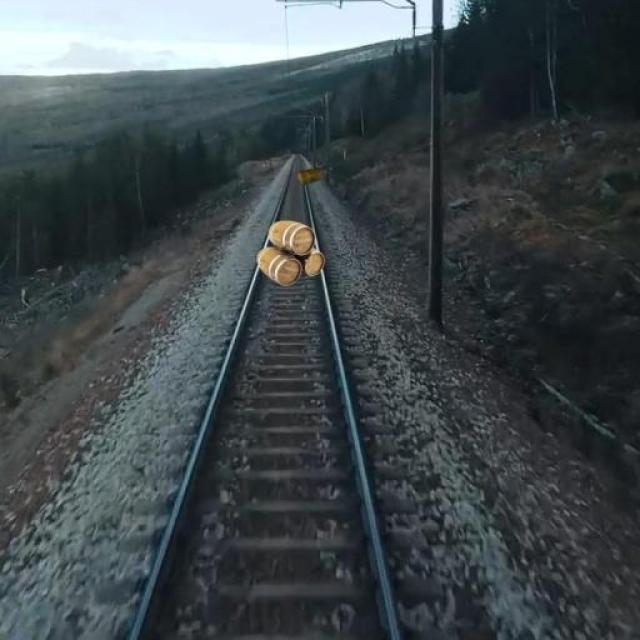Branches: (291, 157, 336, 193)
Other_objects: (242, 210, 328, 287)
